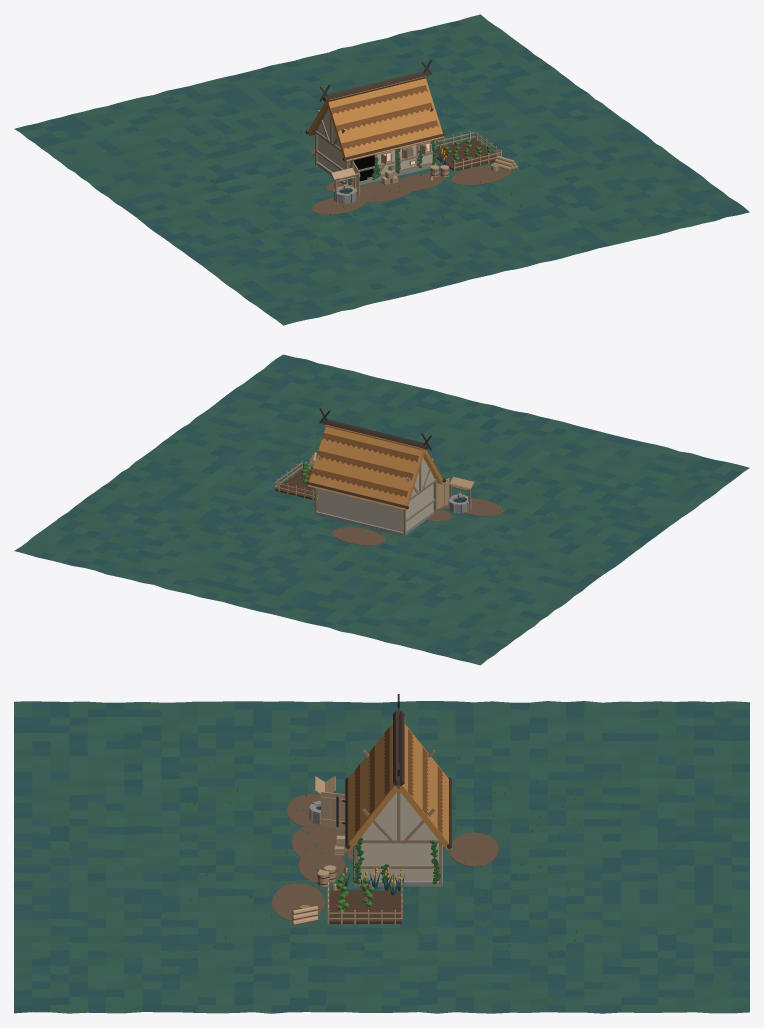
The model's file is farmhouse.glb.
The picture shows the model from 3 angles, top to bottom: view 1: azimuth 30°, elevation 25°; view 2: azimuth 150°, elevation 25°; view 3: azimuth 270°, elevation 25°; orthographic projection. The views are drawn at different scales.
Visible parts, largest first — view 1: Ground, Roof, House, Garden, Grass, Props, Well; view 2: Ground, Roof, House, Garden, Grass, Well; view 3: Ground, Roof, House, Garden, Grass, Props, BarnDoor, Vines, Well.
Boxes of the visible parts, box(x1,y1,x2,y2) form: Ground: box(14, 14, 749, 325); Roof: box(305, 60, 445, 161); House: box(315, 107, 436, 186); Garden: box(436, 131, 501, 171); Grass: box(171, 79, 593, 249); Props: box(381, 155, 518, 184); Well: box(331, 167, 359, 203); Ground: box(14, 354, 749, 665); Roof: box(305, 408, 446, 510); House: box(315, 455, 436, 536); Garden: box(274, 461, 314, 500); Grass: box(166, 420, 579, 595); Well: box(445, 476, 474, 513); Ground: box(14, 701, 749, 1013); Roof: box(345, 694, 451, 850); House: box(348, 749, 442, 887); Garden: box(327, 866, 404, 924); Grass: box(181, 756, 582, 953); Props: box(292, 835, 346, 925); BarnDoor: box(320, 791, 345, 829); Vines: box(353, 837, 440, 884); Well: box(309, 776, 335, 824).
Size of the model in its own units: 44 by 8.4 by 44.
21 materials, 3 textured.
